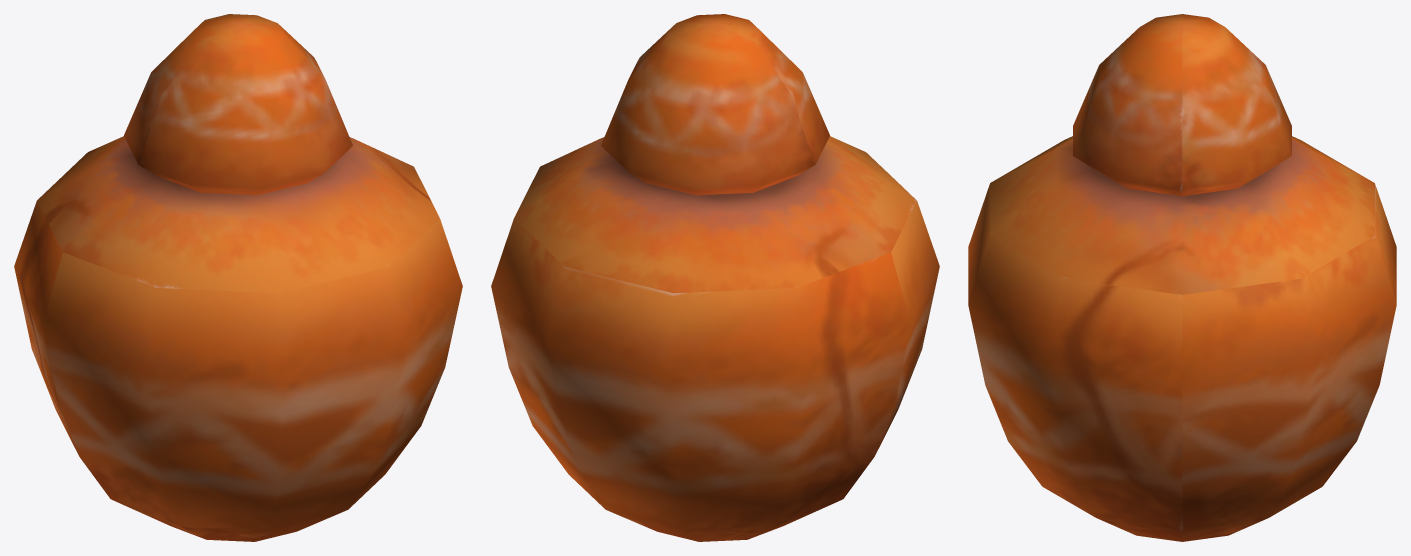
Rendered from vase.fbx.
3 renders of one model, left to right at view 1: azimuth 30°, elevation 25°; view 2: azimuth 150°, elevation 25°; view 3: azimuth 270°, elevation 25°, orthographic.
Parts seen in each view (by area): view 1: vase; view 2: vase; view 3: vase.
Boxes of the visible parts, x1=… form: vase: x1=14, y1=14, x2=462, y2=541; vase: x1=491, y1=14, x2=939, y2=541; vase: x1=968, y1=14, x2=1396, y2=541.
Size of the model in its own units: 46.76 by 55.54 by 44.47.
